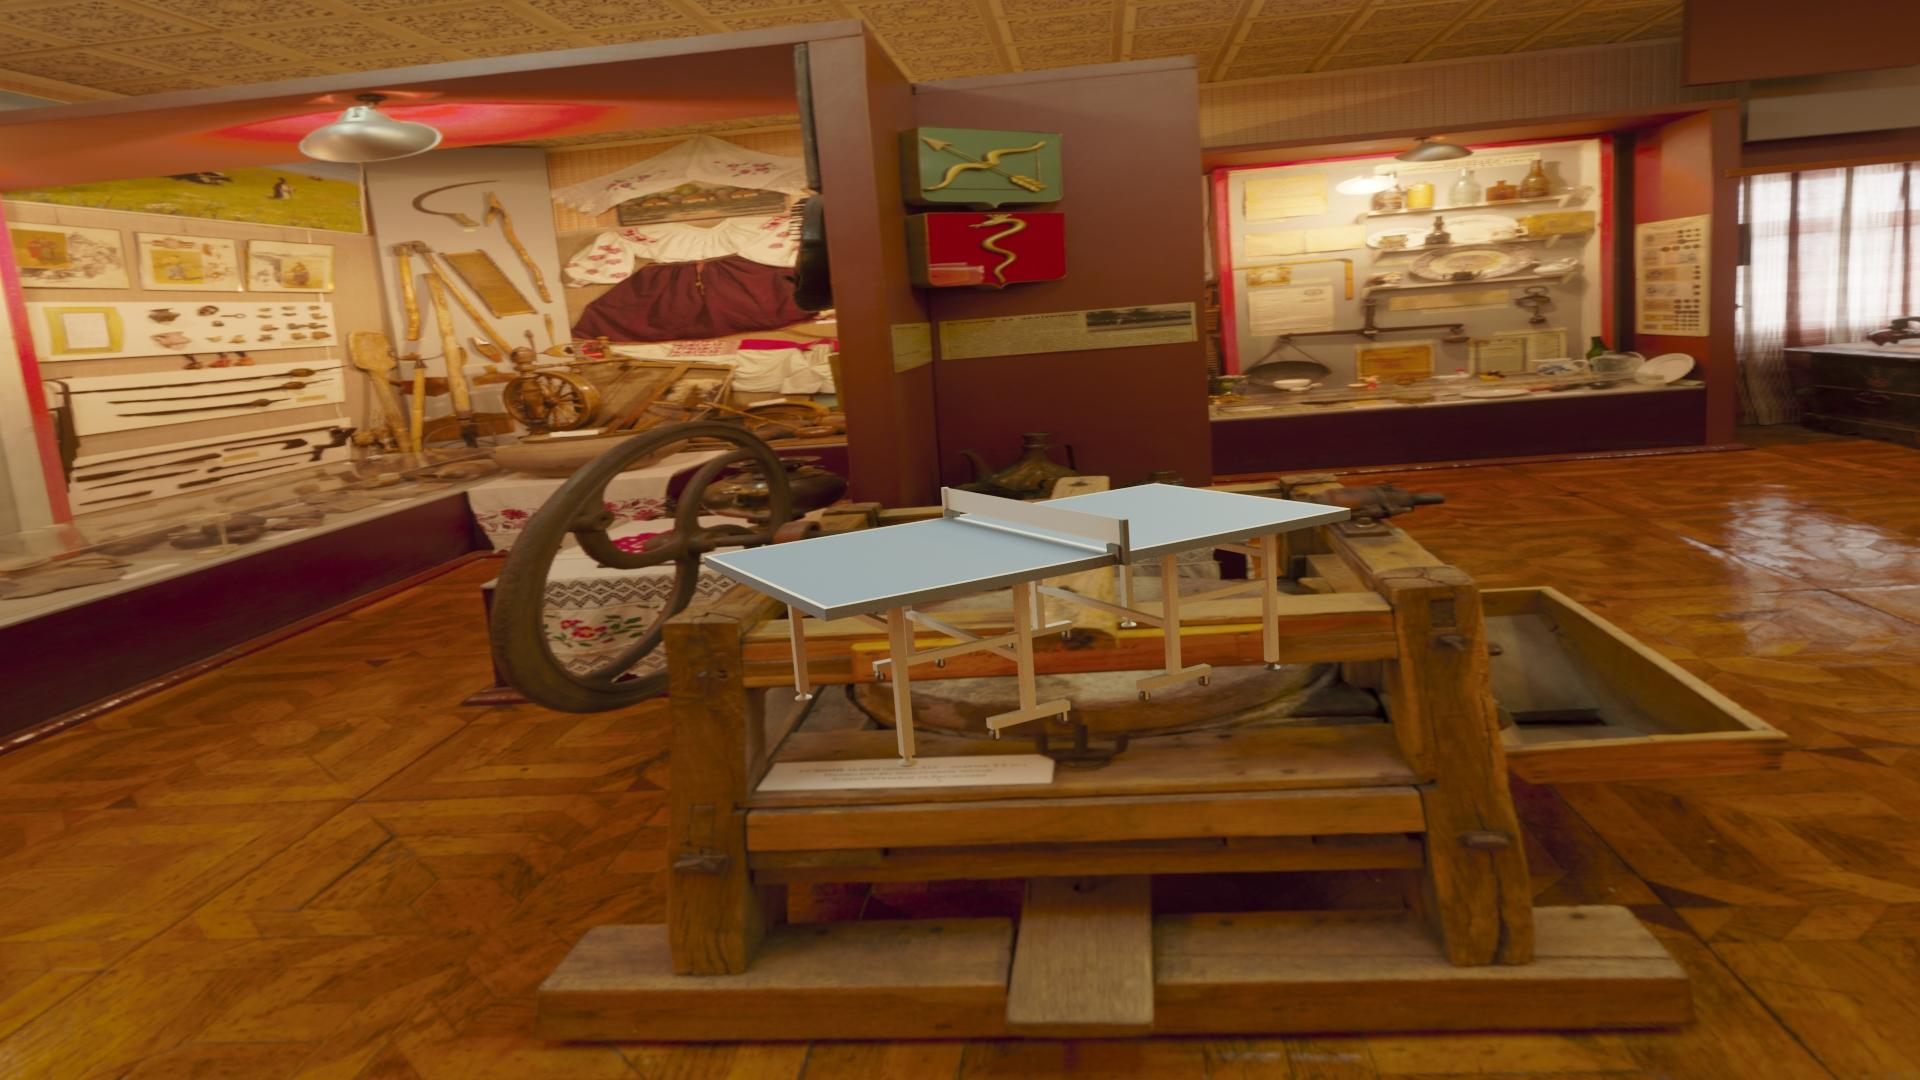table: (709, 484, 1345, 607)
